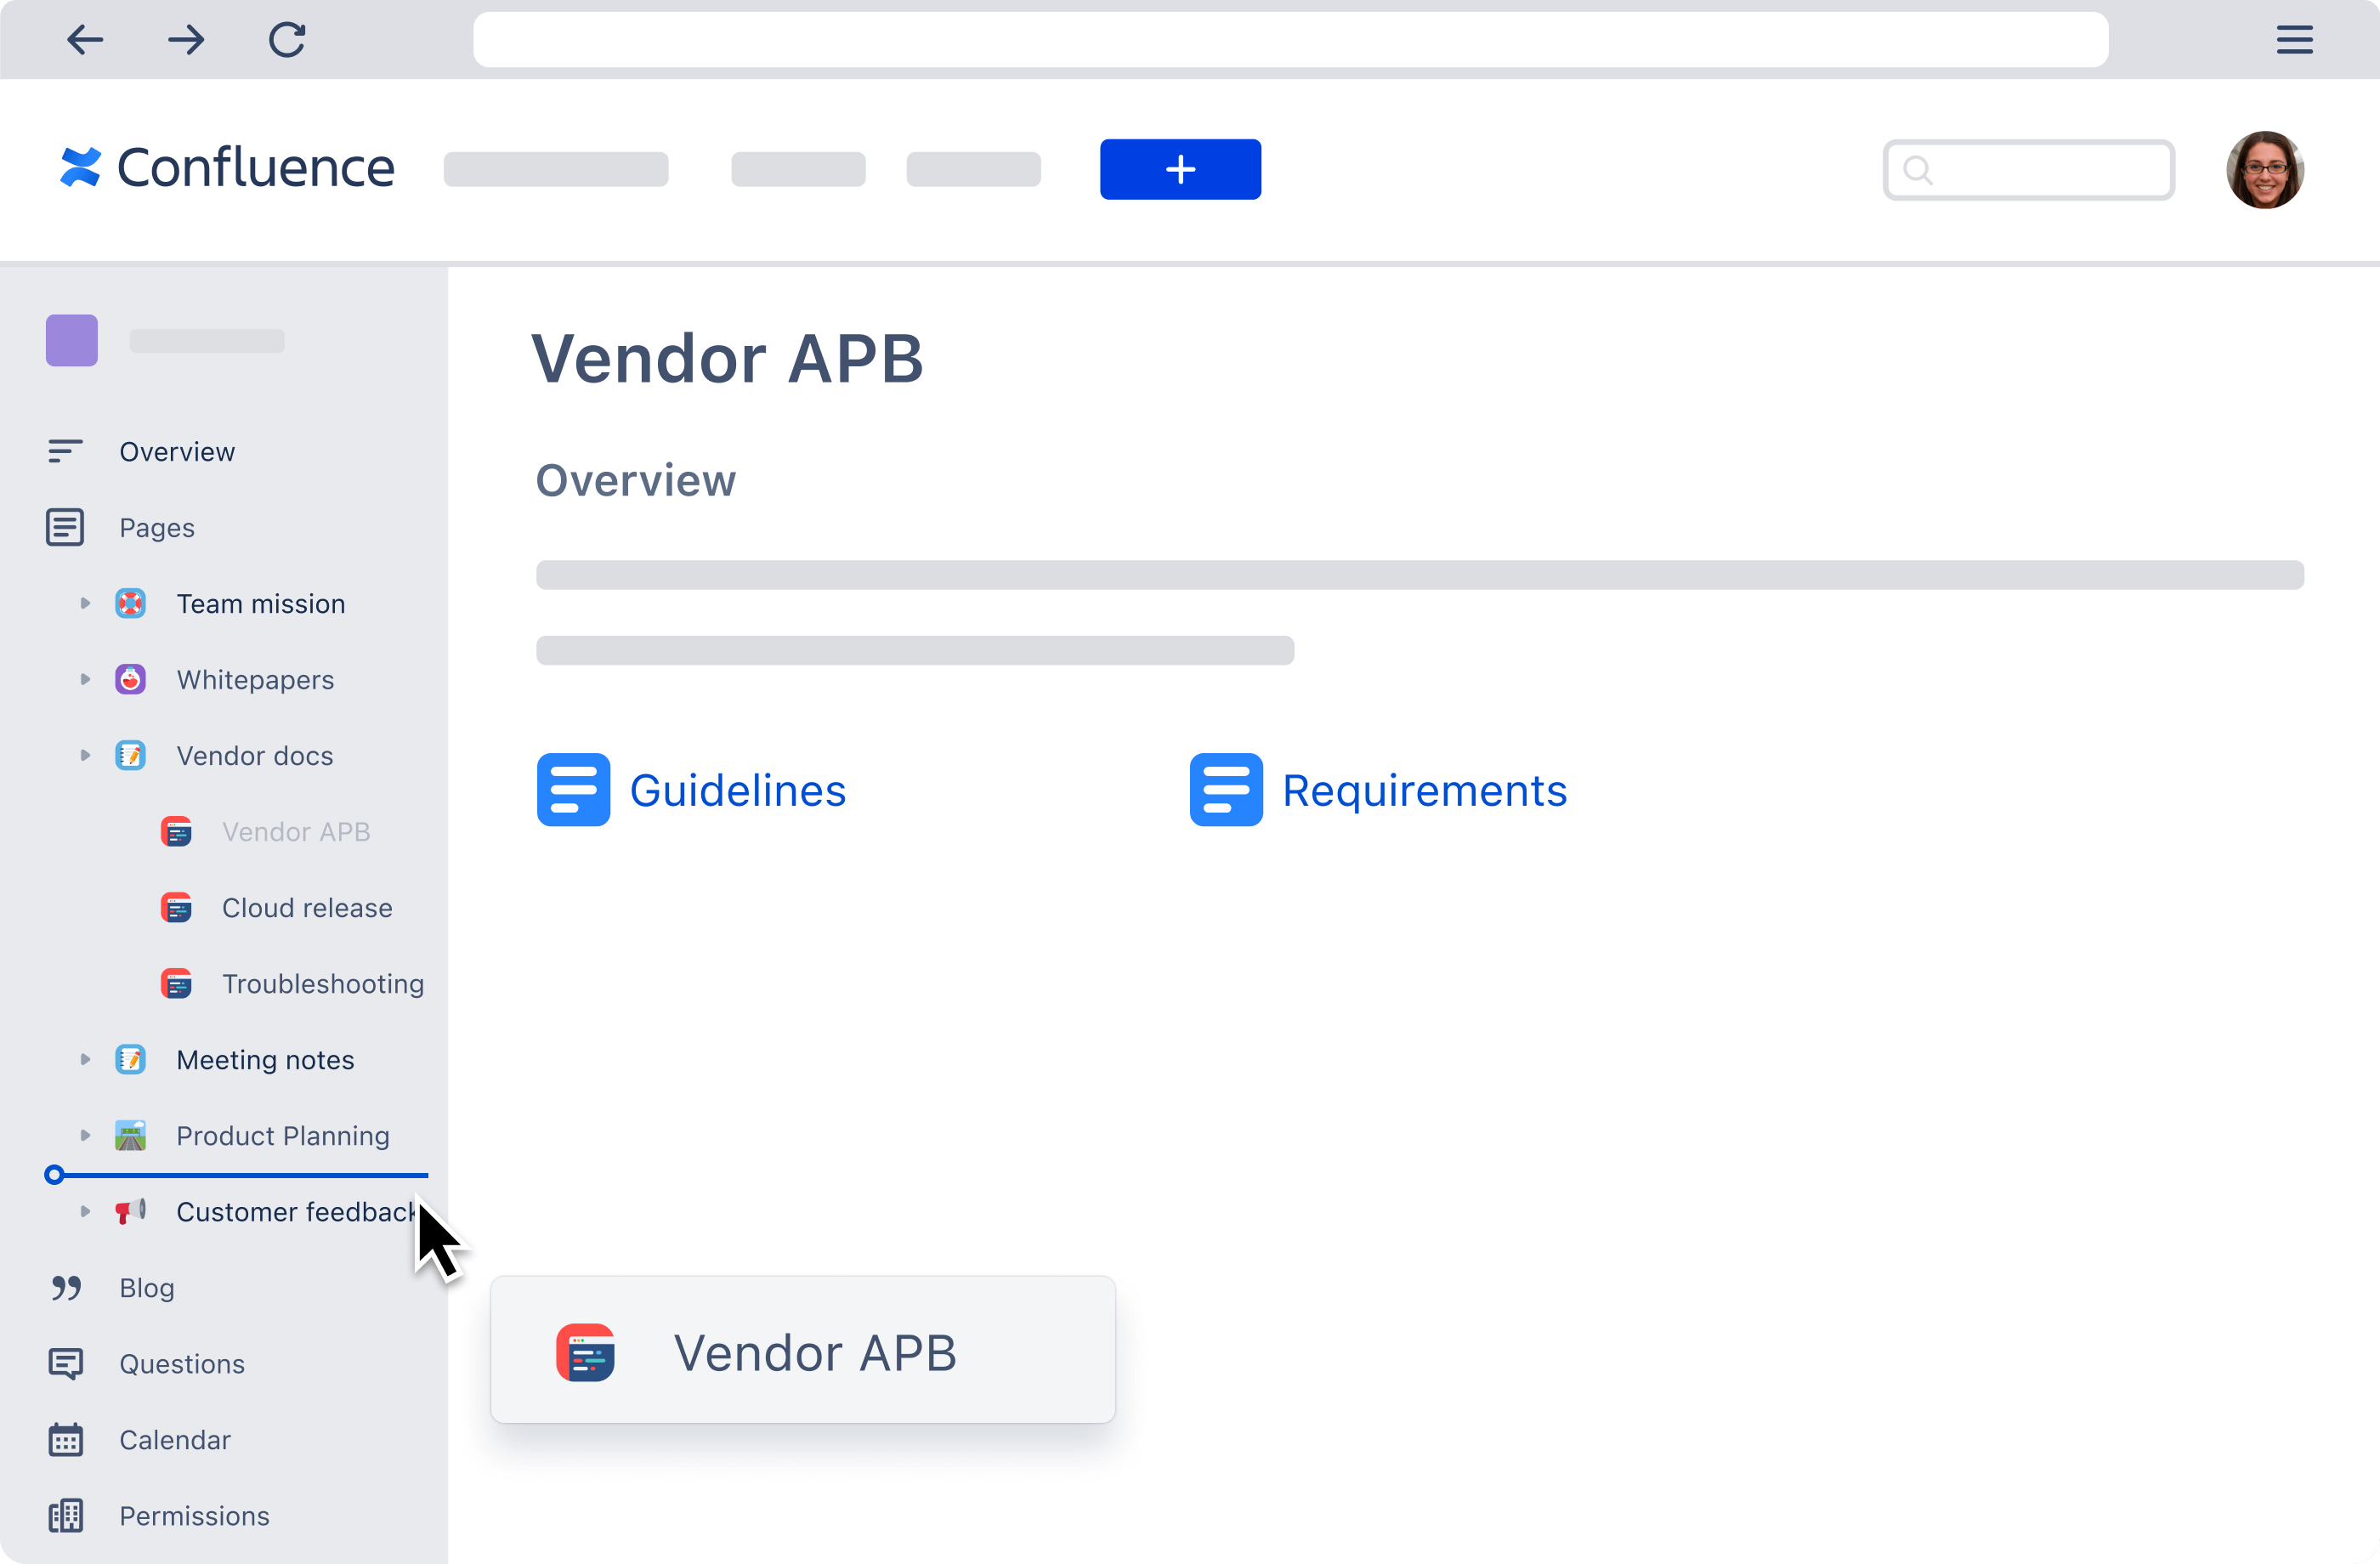search_box: (1881, 129, 2185, 206)
